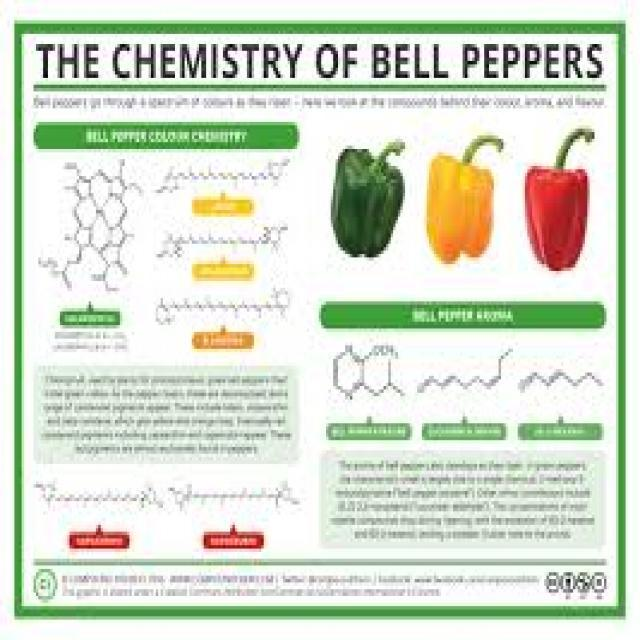Pepper: (522, 122, 596, 274), (424, 133, 506, 264), (331, 136, 405, 263)
